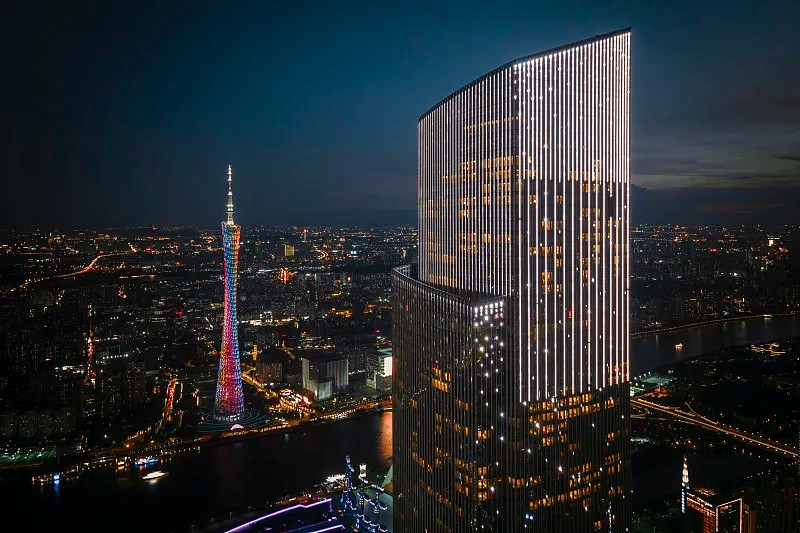Canton: (213, 166, 246, 421)
